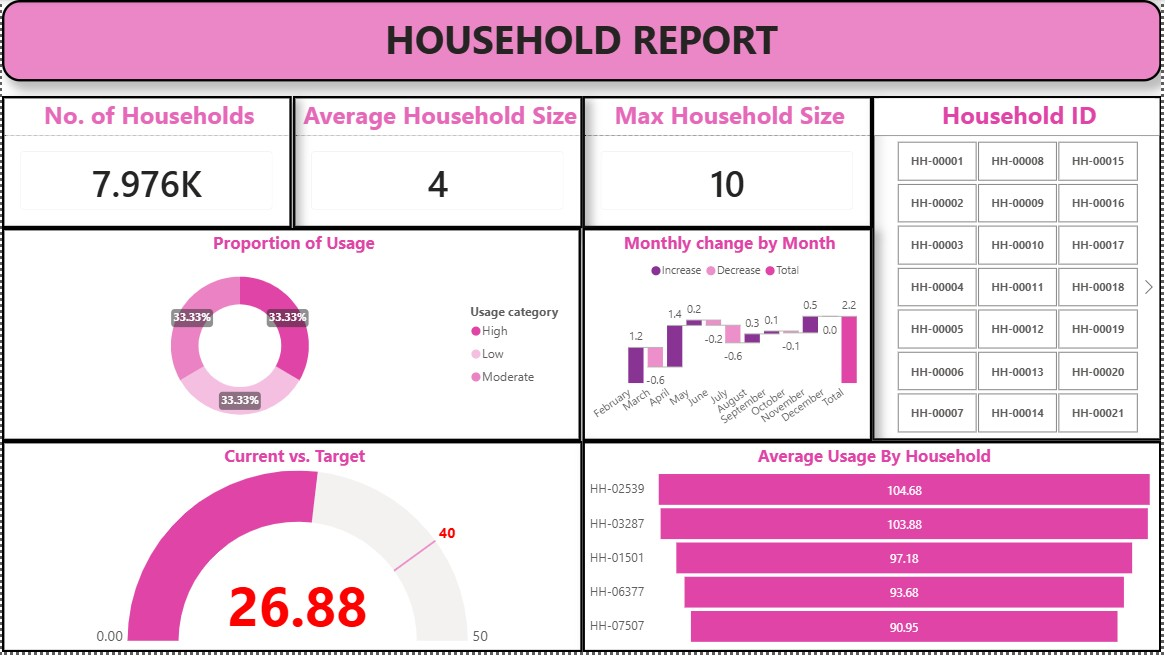

This screenshot's page, from the dashboard's own definition file:
{"tool":"powerbi","page":{"name":"Household","canvas":[1280,720],"ordinal":1},"visuals":[{"type":"textbox","box":[0,0,1280.5,90],"z":0},{"type":"cardVisual","title":"Max Household Size","fields":{"Data":["Max(household.household_size)"]},"box":[641.1,106,319.7,145.8],"z":1000},{"type":"cardVisual","title":"Average Household Size","fields":{"Data":["Avg(household.household_size)"]},"box":[321.4,106,319.7,145.8],"z":2000},{"type":"cardVisual","title":"No. of Households","fields":{"Data":["Count(stove_usage_fact.household_id)"]},"box":[0,106,319.7,145.8],"z":3000},{"type":"slicer","title":"Household ID","fields":{"Values":["household.household_id"]},"box":[960.8,106,319.7,381],"z":4000},{"type":"donutChart","title":"Proportion of Usage","fields":{"Category":["stove_usage_fact.Usage category"],"Y":["CountNonNull(household.household_id)"]},"box":[0,251.8,639.4,235.2],"z":5000},{"type":"waterfallChart","fields":{"Y":["stove_usage_fact.Monthly change"],"Category":["date.Date.Variation.Date Hierarchy.Month"]},"box":[641.1,251.8,319.7,235.2],"z":6000},{"type":"gauge","title":"Current vs. Target","fields":{"Y":["stove_usage_fact.Average_usage"],"TargetValue":["stove_usage_fact.Target"],"MaxValue":["stove_usage_fact.Max_usage"]},"box":[0,487,641.1,233.6],"z":7000},{"type":"funnel","title":"Average Usage By Household","fields":{"Category":["household.household_id"],"Y":["Avg(stove_usage_fact.usage)"]},"box":[641.1,487,639.4,233.6],"z":8000}]}

Visuals, with their boxes in screenshot pixels (x1, y1, x2, y2), scaled from the page's 1280x720 canvas onto the 1165x657 screenshot:
textbox: bbox=(0, 0, 1164, 82)
"Max Household Size" cardVisual: bbox=(584, 97, 874, 230)
"Average Household Size" cardVisual: bbox=(293, 97, 584, 230)
"No. of Households" cardVisual: bbox=(0, 97, 291, 230)
"Household ID" slicer: bbox=(874, 97, 1164, 444)
"Proportion of Usage" donutChart: bbox=(0, 230, 582, 444)
waterfallChart - stove_usage_fact.Monthly change x date.Date.Variation.Date Hierarchy.Month: bbox=(584, 230, 874, 444)
"Current vs. Target" gauge: bbox=(0, 444, 584, 656)
"Average Usage By Household" funnel: bbox=(584, 444, 1164, 656)
